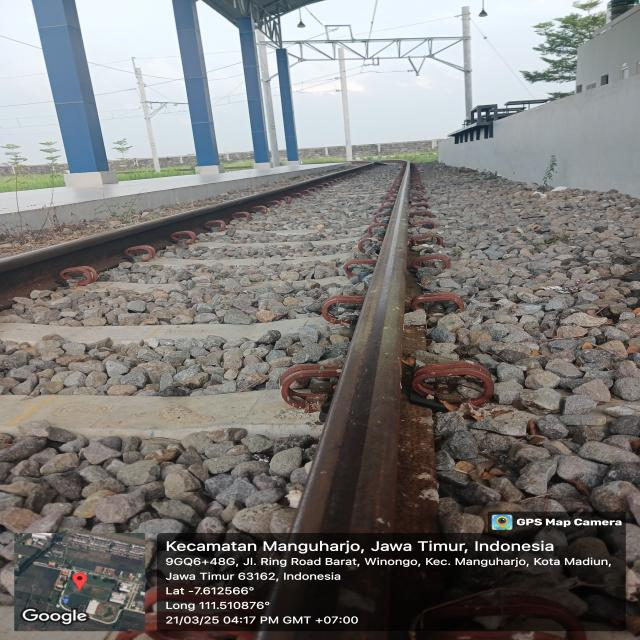rail-detection: (0, 163, 382, 309), (294, 161, 439, 533), (336, 161, 411, 395), (362, 416, 391, 456), (365, 408, 373, 416)
